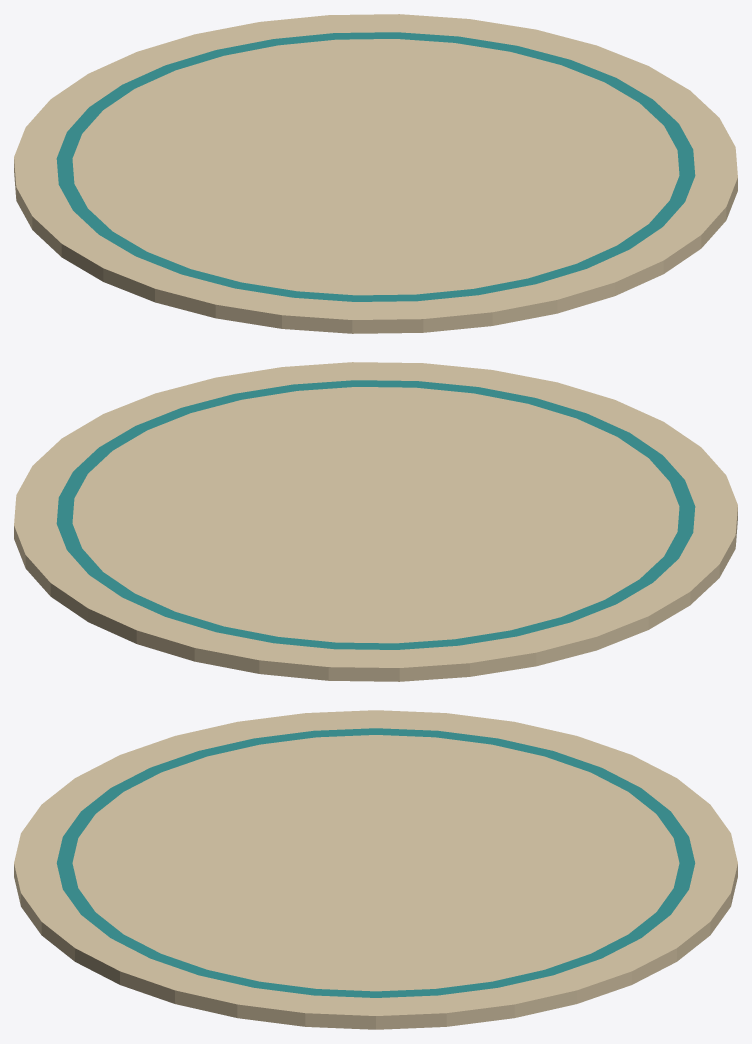
File: reposamatera.glb
3 views of the same model, one above another, from view 1: azimuth 30°, elevation 25°; view 2: azimuth 150°, elevation 25°; view 3: azimuth 270°, elevation 25° (orthographic).
Parts seen in each view (by area): view 1: Circle.001; view 2: Circle.001; view 3: Circle.001.
Part boxes in pixels (box(x1,y1,x2,y2)): Circle.001: box(14, 14, 737, 333); Circle.001: box(14, 362, 737, 681); Circle.001: box(14, 710, 737, 1029).
Size of the model in its own units: 2.72 by 0.0569 by 2.72.
2 materials, 1 textured.
